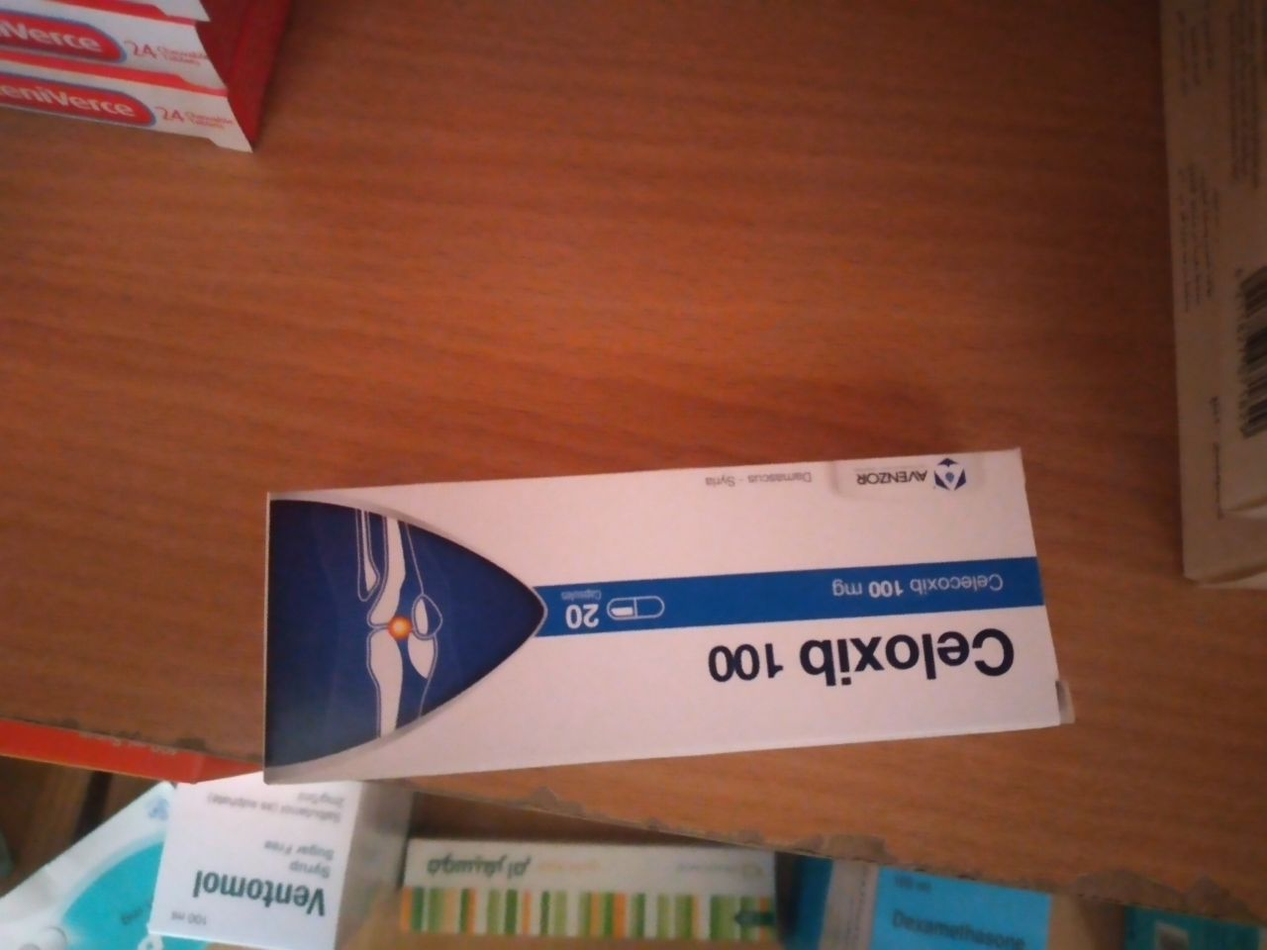Medicine: (238, 438, 1114, 802)
